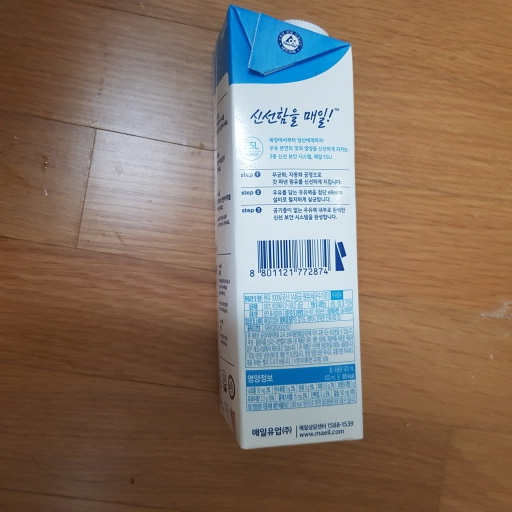Paper_0: (202, 2, 373, 454)
